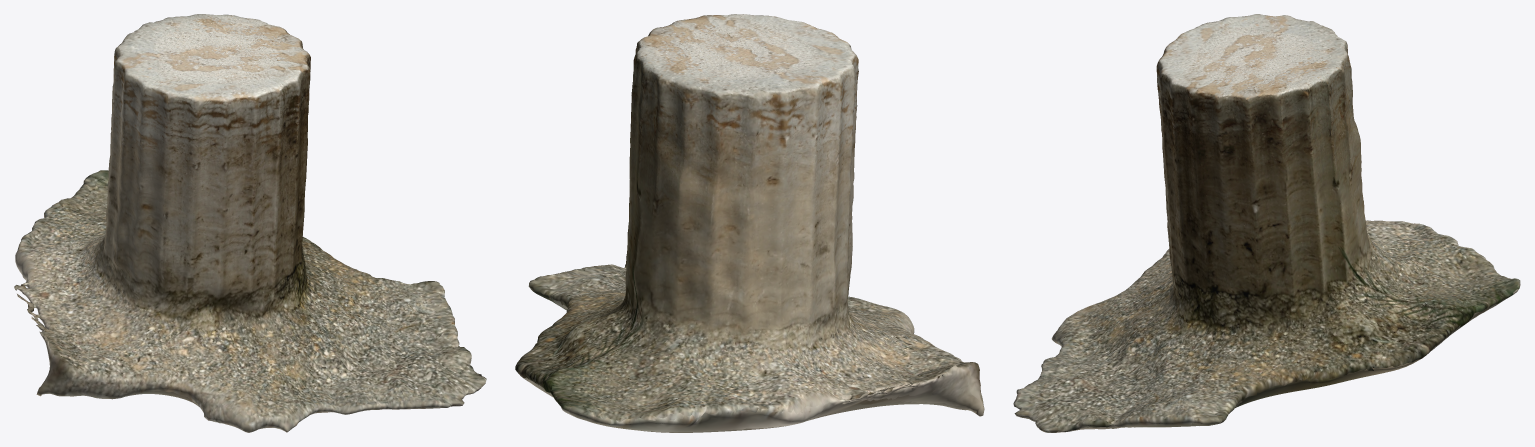
File: pillar.glb
The picture shows the model from 3 angles, left to right: view 1: azimuth 30°, elevation 25°; view 2: azimuth 150°, elevation 25°; view 3: azimuth 270°, elevation 25°; orthographic projection. The views are drawn at different scales.
Visible parts, largest first — view 1: mesh; view 2: mesh; view 3: mesh.
Boxes of the visible parts, x1,y1,x2,y2 form: mesh: [14, 14, 486, 432]; mesh: [515, 14, 984, 432]; mesh: [1013, 14, 1520, 432].
Bounding box in the file's own units: 1.56 × 1.15 × 1.71.
1 material, 1 textured.
